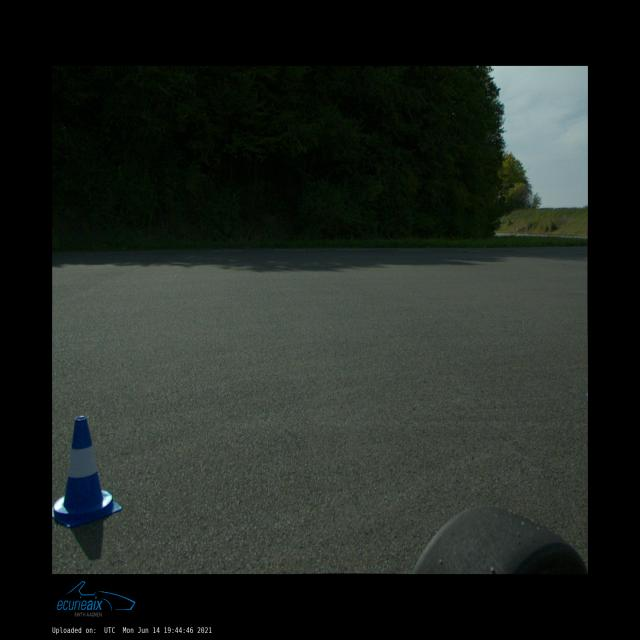blue_cone: (52, 416, 123, 527)
